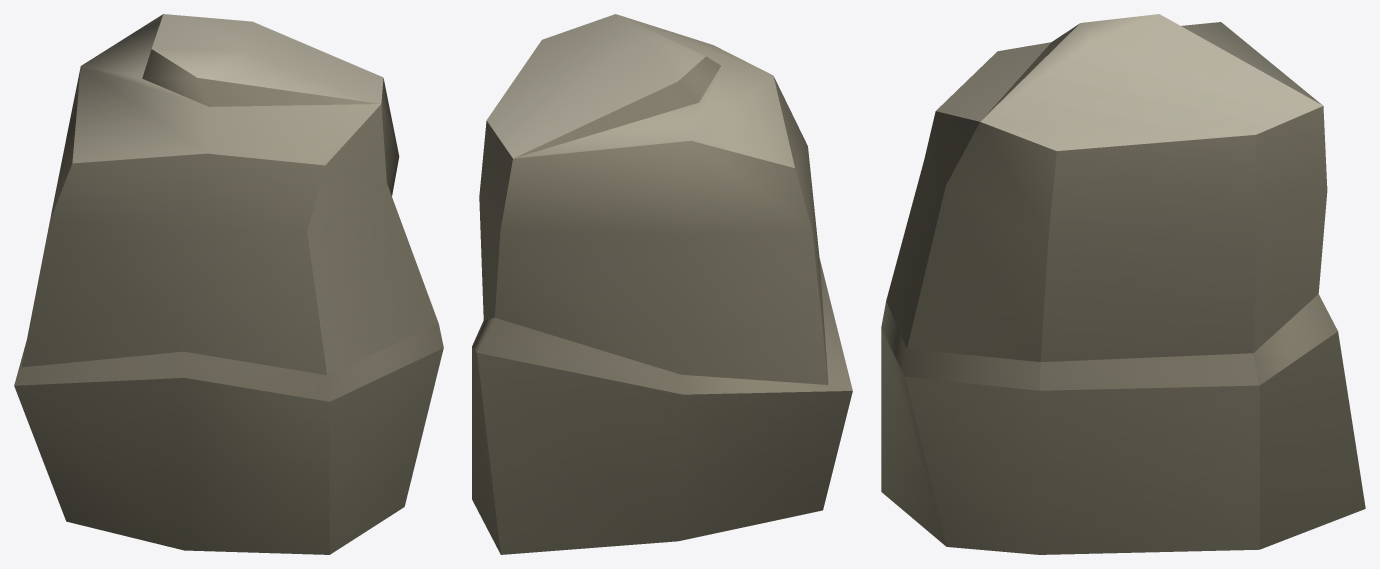
File: orc_mine_stone_01.fbx
3 views of the same model, side by side, from view 1: azimuth 30°, elevation 25°; view 2: azimuth 150°, elevation 25°; view 3: azimuth 270°, elevation 25° (orthographic). The views are drawn at different scales.
Parts seen in each view (by area): view 1: orc_mine_stone_01; view 2: orc_mine_stone_01; view 3: orc_mine_stone_01.
Part boxes in pixels (box(x1,y1,x2,y2)): orc_mine_stone_01: box(14, 14, 443, 554); orc_mine_stone_01: box(472, 14, 852, 554); orc_mine_stone_01: box(881, 14, 1365, 554).
Size of the model in its own units: 478 by 556 by 532.
